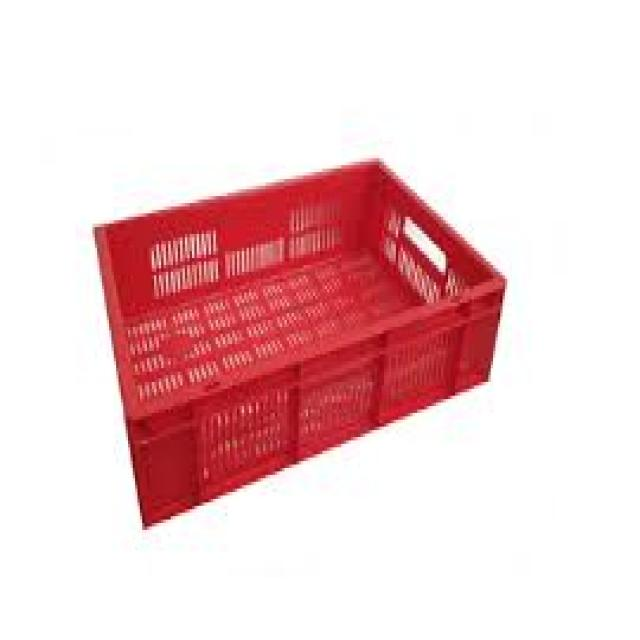basket: (60, 121, 545, 528)
